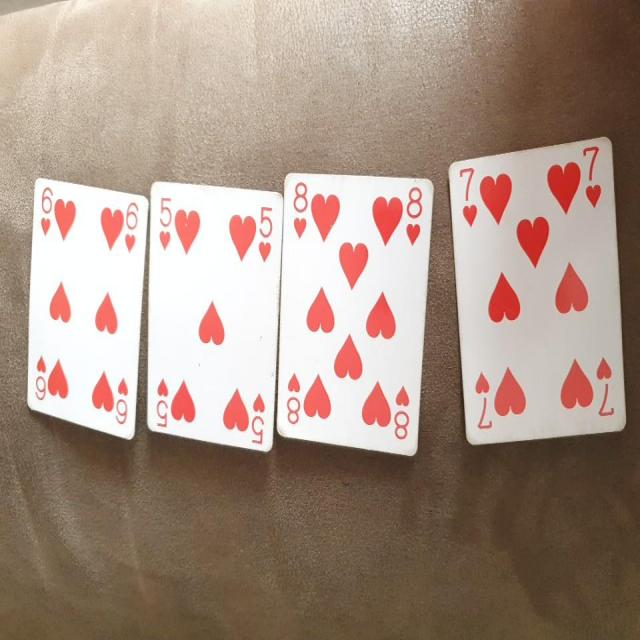5 Hearts: (143, 172, 287, 450)
6 Hearts: (18, 174, 159, 438)
7 Hearts: (441, 131, 630, 454)
8 Hearts: (279, 171, 444, 454)
